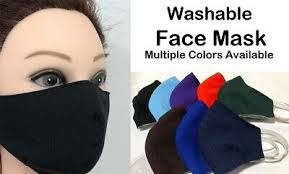cloth_mask: (1, 80, 113, 174)
